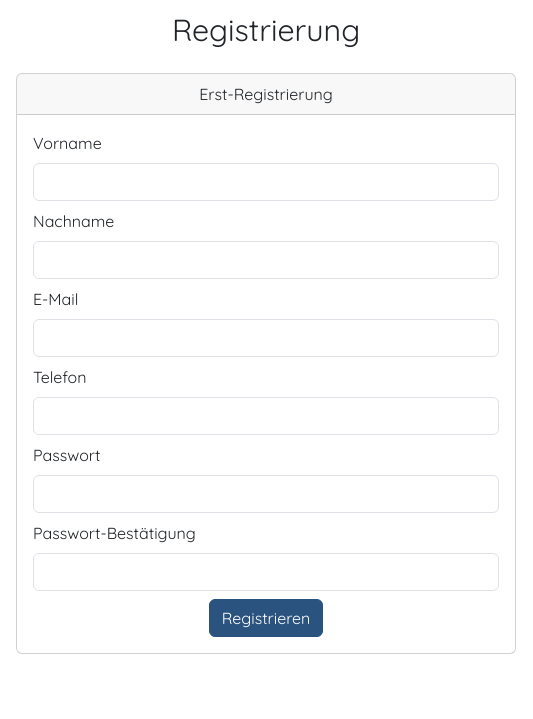
Scenario: RegisterView › shows the password policy error returned by the backend
Type "Max" into the field with id "givenname".
click(266, 182); type("Max")  # box [33,162,499,200]
Type "Muster" into the field with id "surname".
click(266, 260); type("Muster")  # box [33,240,499,278]
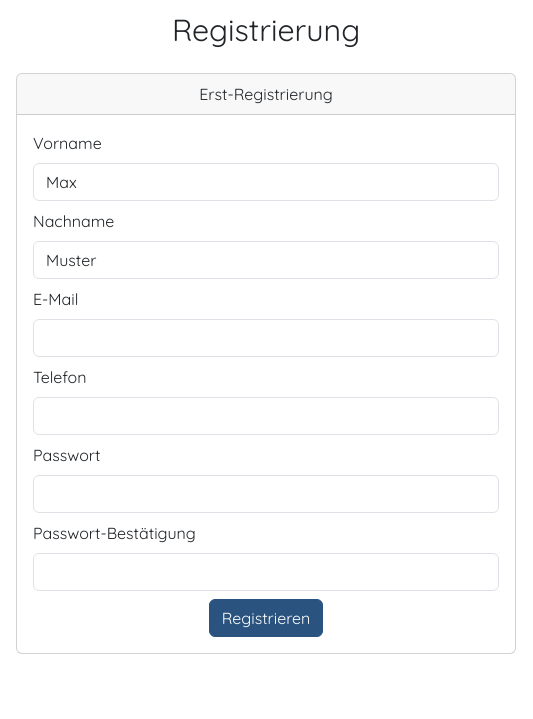
Type "max.muster@example.com" into the field with id "email".
click(266, 338); type("max.muster@example.com")  # box [33,318,499,356]
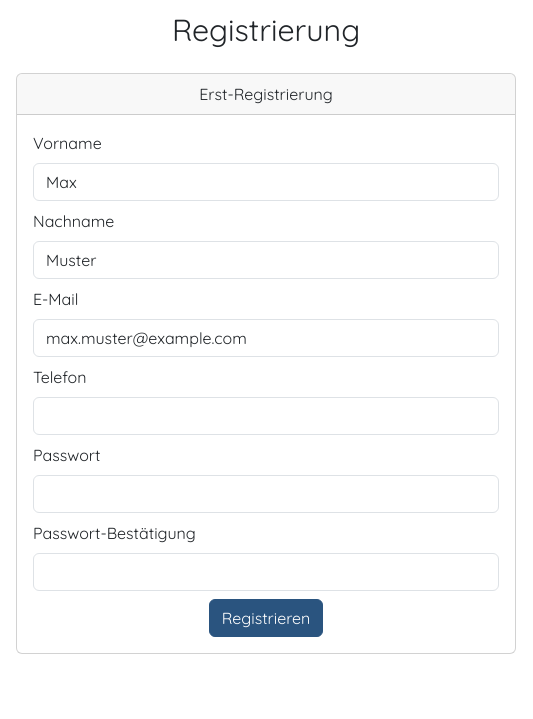
Type "+43 660 1234567" into the field labelled "Telefon".
click(266, 416); type("+43 660 1234567")  # box [33,396,499,434]
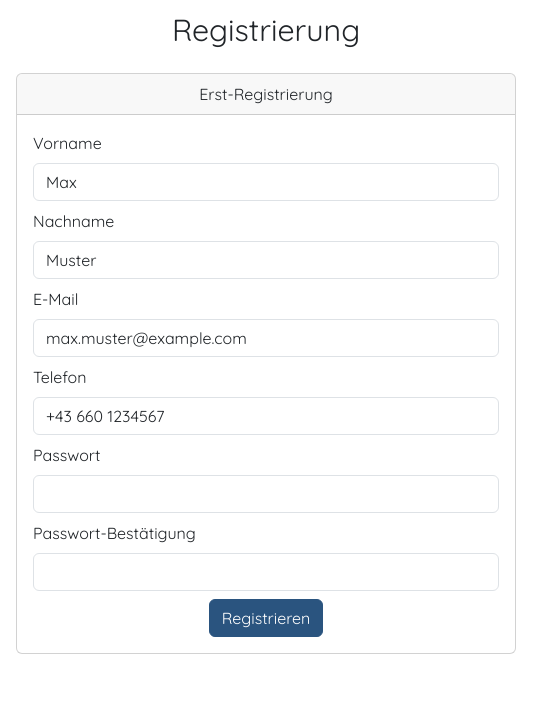
Type "Passw0rd1" into the password field labelled "Passwort".
click(266, 494); type("Passw0rd1")  # box [33,474,499,512]
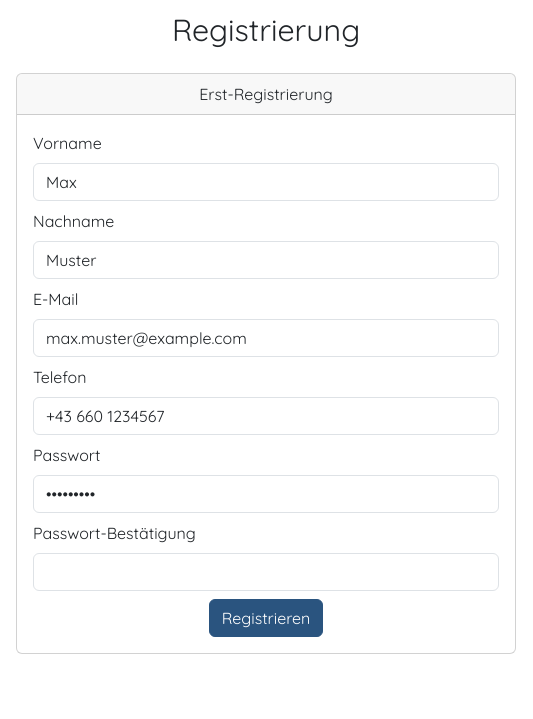
Type "Passw0rd1" into the password field labelled "Passwort-Bestätigung".
click(266, 572); type("Passw0rd1")  # box [33,552,499,590]
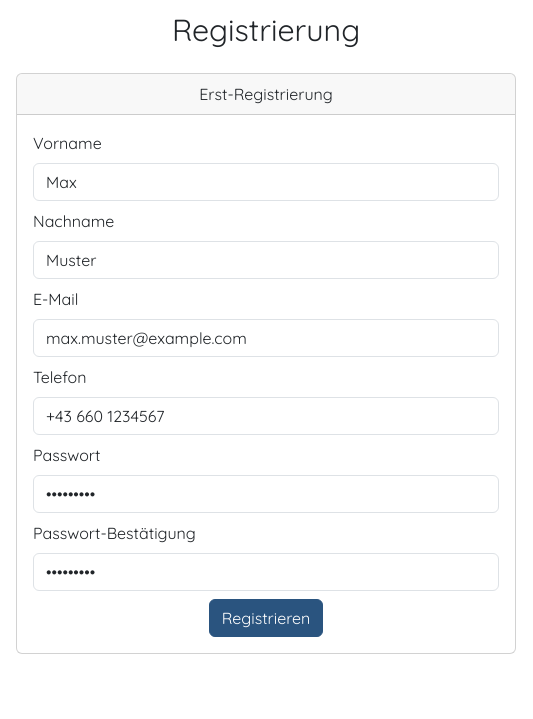
Submit the form
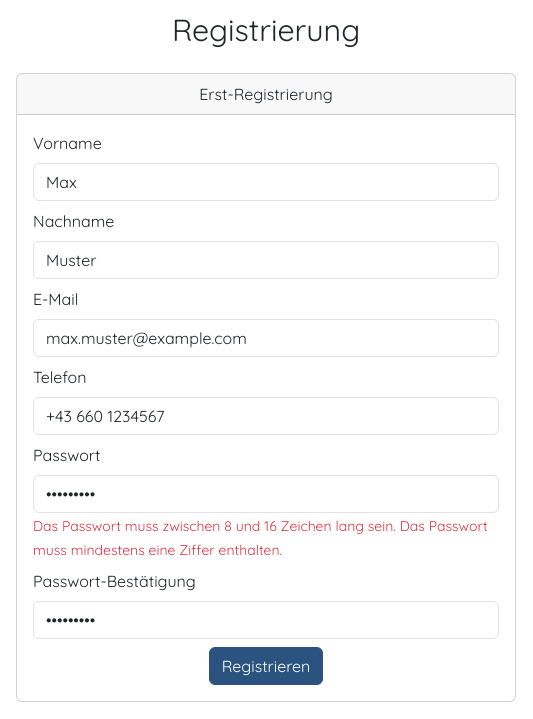
Now the text "zwischen 8 und 16 Zeichen" is shown, box [33,516,488,558]
Now the text "mindestens eine Ziffer" is shown, box [33,516,488,558]
